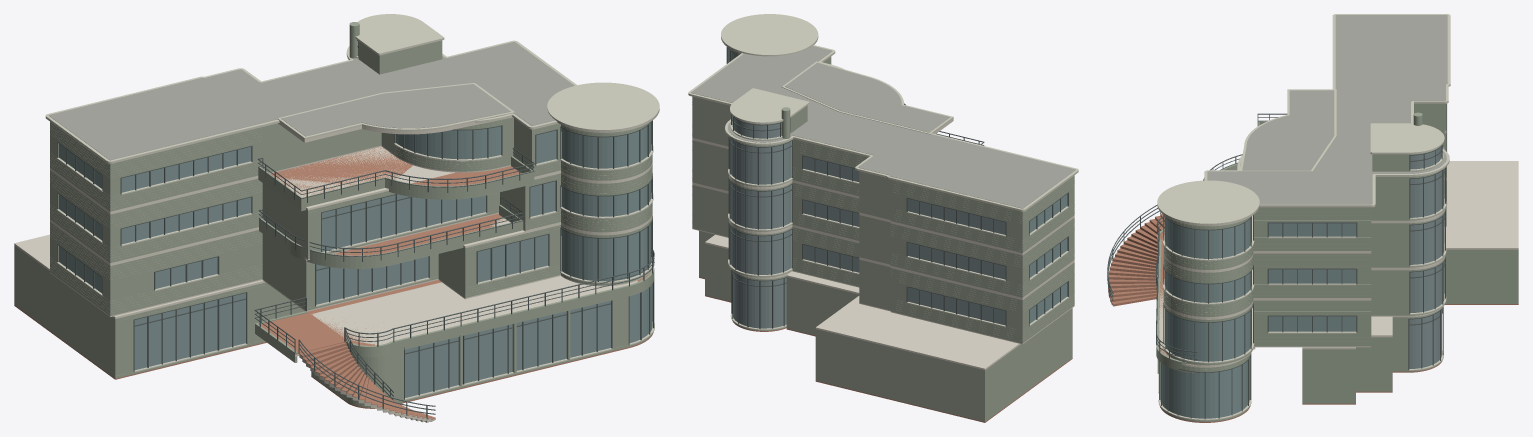
The model's file is jingan-woo-tongwen-green-house-raw.glb.
The picture shows the model from 3 angles, left to right: view 1: azimuth 30°, elevation 25°; view 2: azimuth 150°, elevation 25°; view 3: azimuth 270°, elevation 25°; orthographic projection. The views are drawn at different scales.
Visible parts, largest first — view 1: 吴同文住宅（绿房子）; view 2: 吴同文住宅（绿房子）; view 3: 吴同文住宅（绿房子）.
Part boxes in pixels (bbox=[...]): 吴同文住宅（绿房子）: bbox=[14, 14, 659, 422]; 吴同文住宅（绿房子）: bbox=[688, 14, 1078, 422]; 吴同文住宅（绿房子）: bbox=[1107, 14, 1518, 422].
Bounding box in the file's own units: 34.16 × 17.34 × 28.08.
